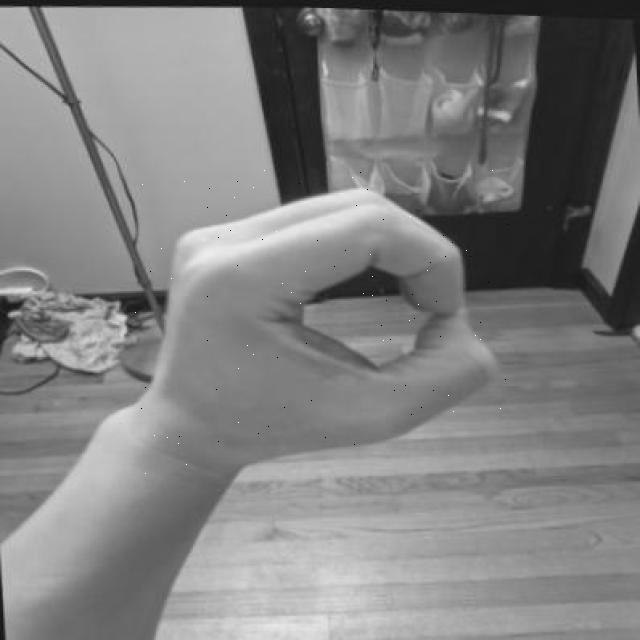O: (127, 169, 508, 474)
